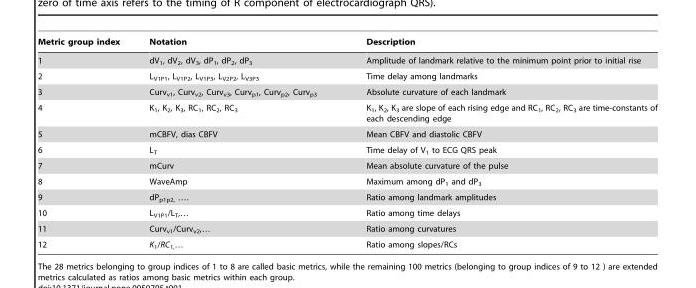table: (37, 37, 656, 249)
table column: (340, 37, 656, 249), (133, 37, 340, 249), (37, 37, 133, 249)
table column header: (37, 37, 656, 50)
table row: (37, 100, 656, 126), (37, 50, 656, 68), (37, 141, 656, 158), (37, 68, 656, 84), (37, 84, 656, 100), (37, 173, 656, 189), (37, 189, 656, 205), (37, 205, 656, 221), (37, 126, 656, 141), (37, 158, 656, 173), (37, 221, 656, 236), (37, 37, 656, 50), (37, 236, 656, 249)
